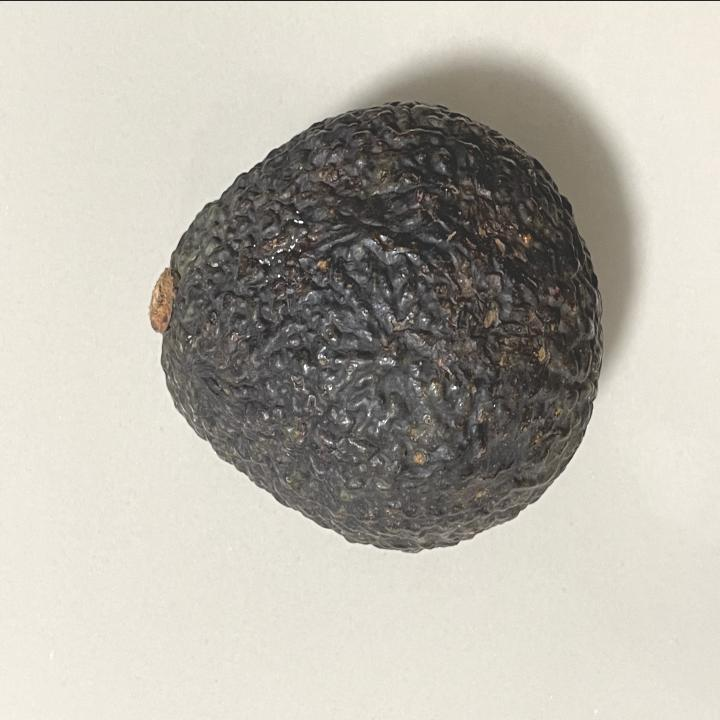Level1: (134, 83, 622, 580)
